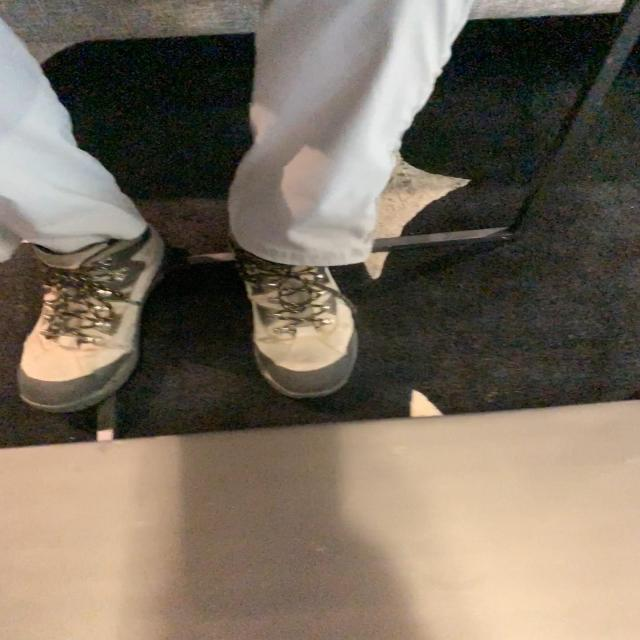shoe: (16, 226, 167, 416), (232, 247, 361, 403)
